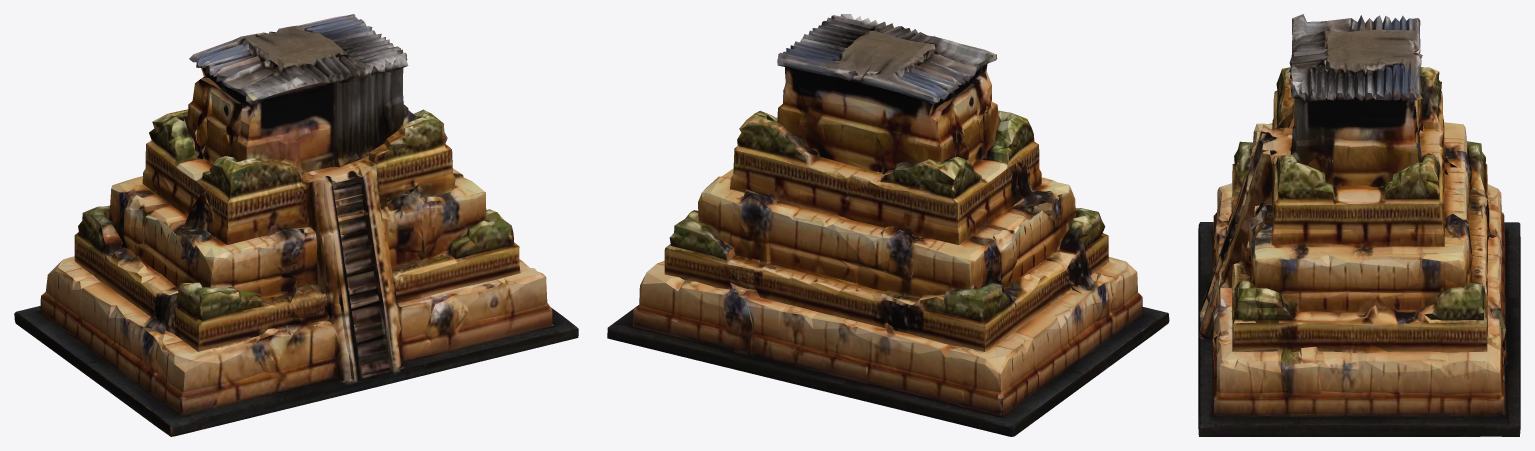
Rendered from temple-stepped-platform.glb.
The picture shows the model from 3 angles, left to right: view 1: azimuth 30°, elevation 25°; view 2: azimuth 150°, elevation 25°; view 3: azimuth 270°, elevation 25°; orthographic projection. The views are drawn at different scales.
Visible parts, largest first — view 1: tmpsp3uc9dw.ply; view 2: tmpsp3uc9dw.ply; view 3: tmpsp3uc9dw.ply.
Part boxes in pixels (x1,y1,x2,y2): tmpsp3uc9dw.ply: (14, 14, 578, 436); tmpsp3uc9dw.ply: (607, 14, 1169, 436); tmpsp3uc9dw.ply: (1198, 14, 1520, 436).
Bounding box in the file's own units: 6 × 4 × 4.
1 material, 1 textured.
